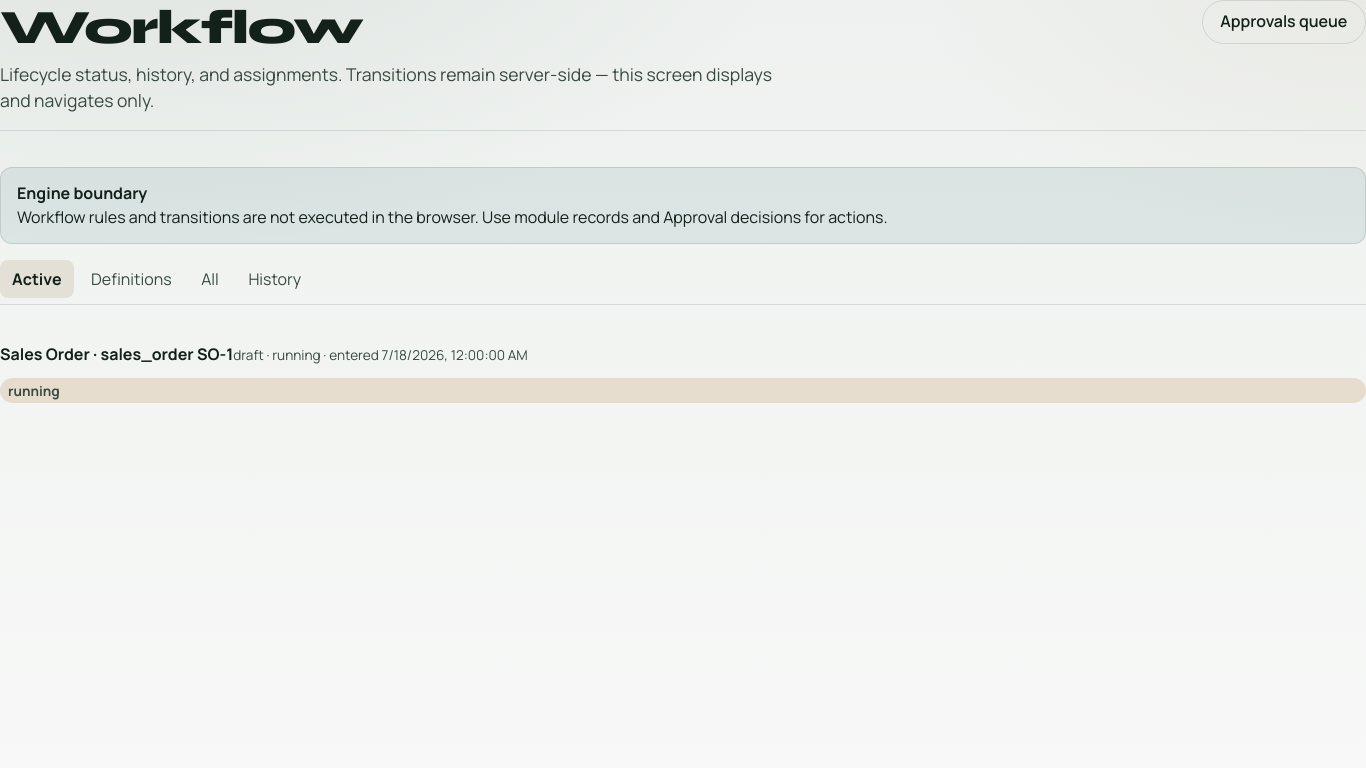
Test case: WorkflowPage (RC6.3) › loads transitions and tasks when an instance is selected
Click the button "Sales Order · sales_order SO-1".
click(117, 354)  # box [0,332,233,376]
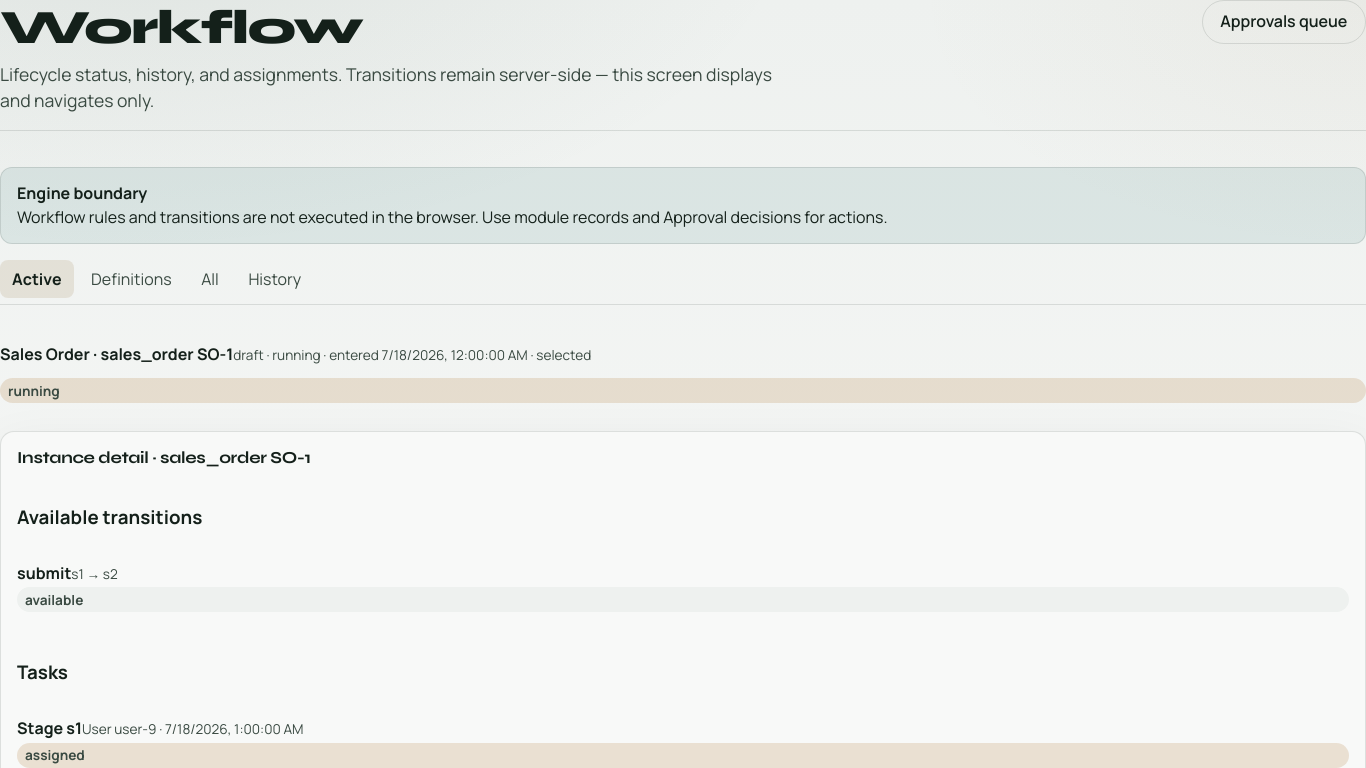
Expected: the heading "Available transitions" is shown, [17,504,202,530]
Expected: the text "submit" is shown, [17,562,71,584]
Expected: the text "User user-9 · 7/18/2026, 1:00:00 AM" is shown, [82,720,304,738]
